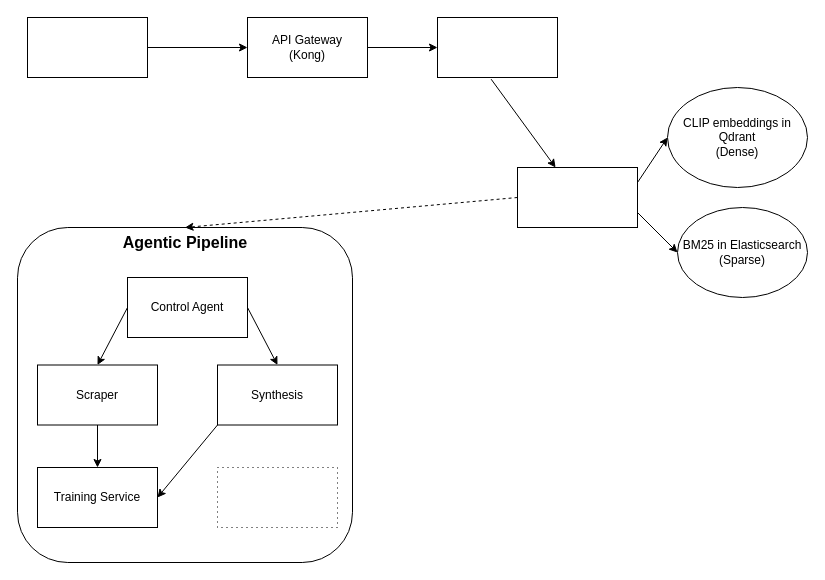
This 825x580 diagram has some shape labels left out. The shapes that lost their labels are listed below. From the top down, each one's centre as x and y in pixels, then its label:
[87,47]: Frontend (Gradio)
[497,47]: Inference Service
[577,197]: Hybrid Retrieval System
[277,497]: Labeling Agent
